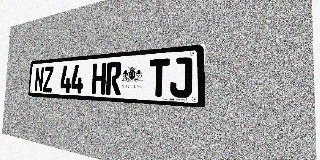4: (71, 64, 84, 94), (60, 65, 72, 93)
H: (92, 63, 106, 94)
J: (169, 57, 192, 98)
N: (34, 67, 44, 92)
R: (106, 62, 122, 95)
T: (149, 58, 169, 97)
Z: (43, 66, 54, 92)
